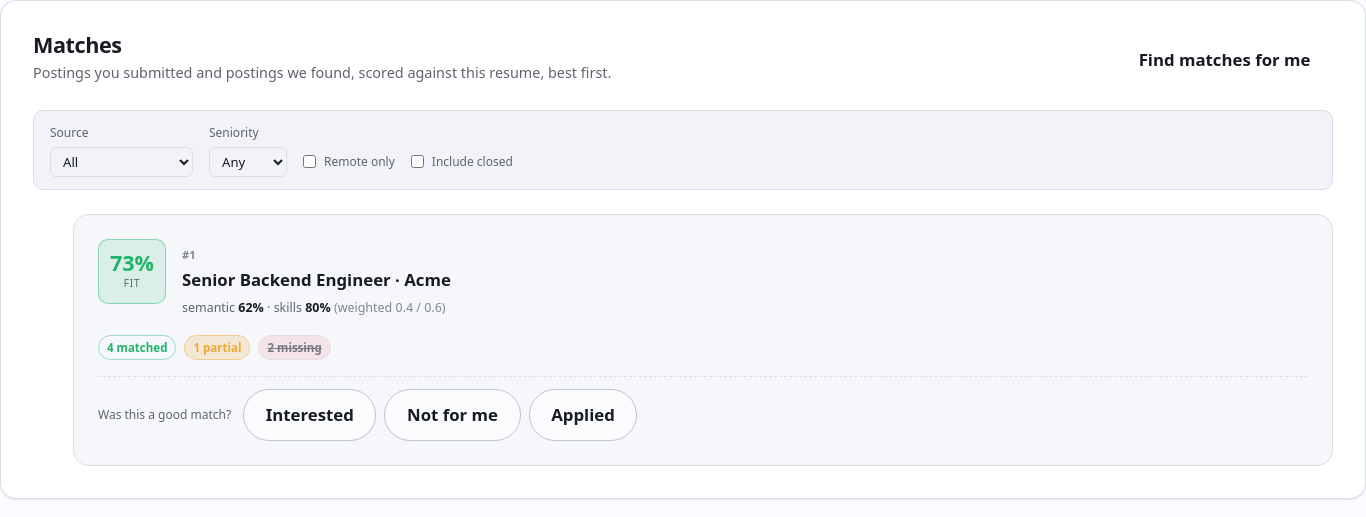
Test: feedback capture › reverts the confirmation when the label never reached the server
What coordinates should you click on to do the following:
click the button "Interested"
I would click on:
 (310, 415)
Its box is [243, 388, 376, 441].
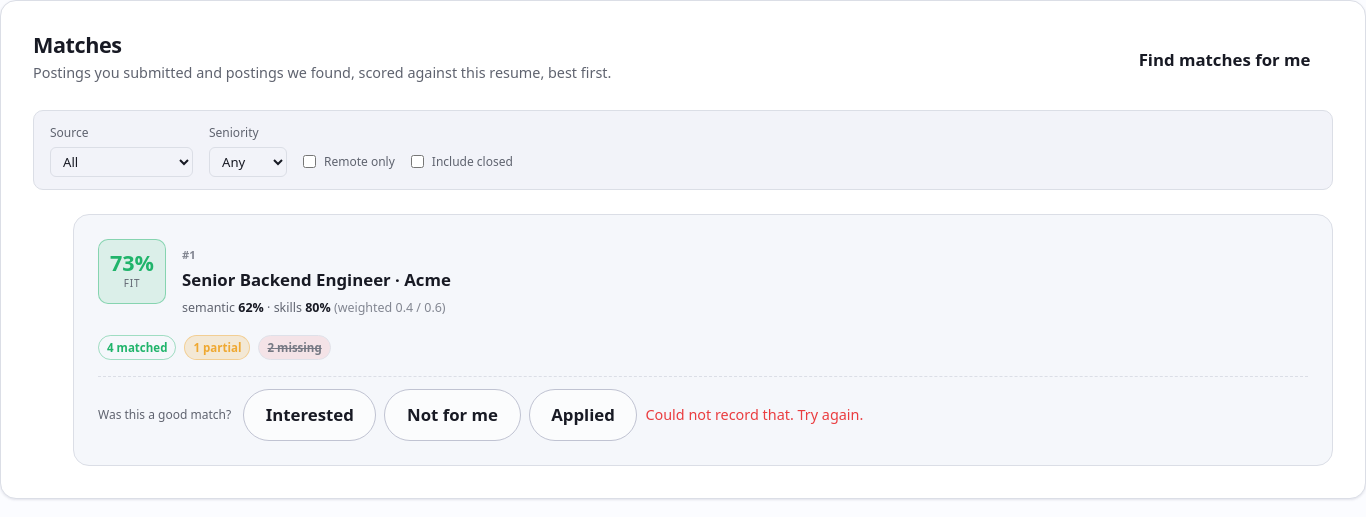
Expected: the message shows "Could not record that", [645, 405, 863, 424]
